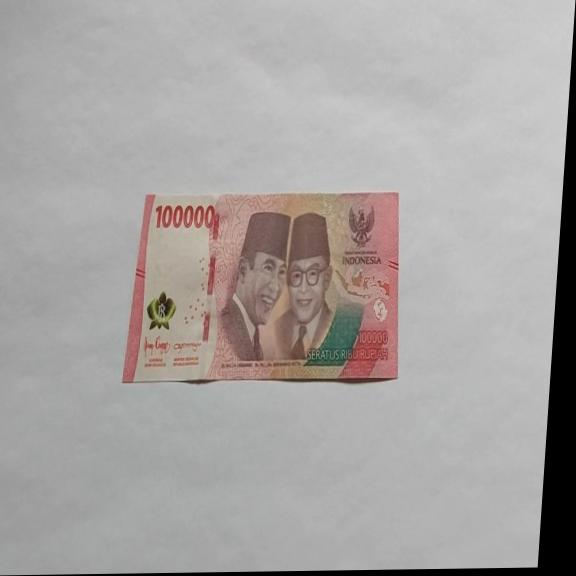Kertas: (121, 188, 411, 386), (153, 201, 217, 232)
